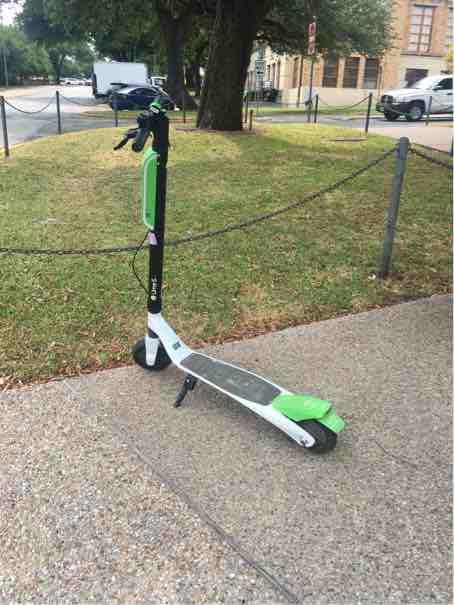scooter: (108, 92, 350, 458)
